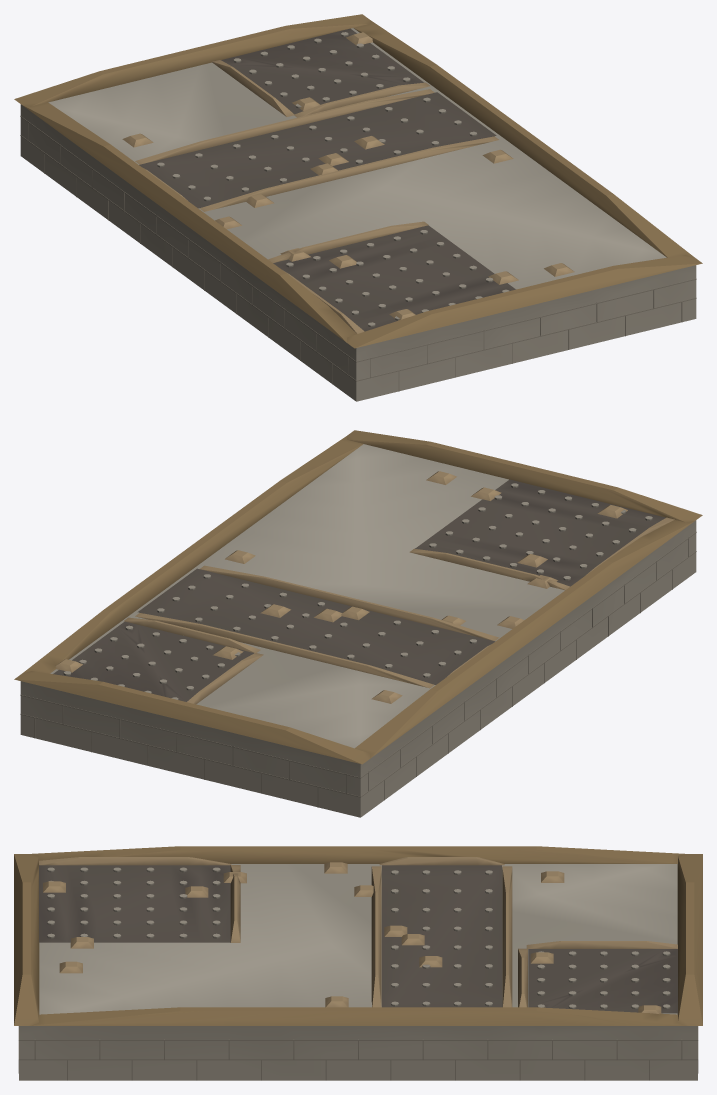
The model's file is treasury-ruin.glb.
The picture shows the model from 3 angles, top to bottom: view 1: azimuth 30°, elevation 25°; view 2: azimuth 150°, elevation 25°; view 3: azimuth 270°, elevation 25°; orthographic projection.
Parts seen in each view (by area): view 1: p0_terrace, p1_walls; view 2: p0_terrace, p1_walls; view 3: p0_terrace, p1_walls.
Part boxes in pixels (x1,y1,x2,y2): p0_terrace: (20, 28, 696, 401); p1_walls: (14, 14, 702, 348); p0_terrace: (20, 444, 696, 817); p1_walls: (14, 430, 702, 764); p0_terrace: (18, 864, 698, 1080); p1_walls: (14, 846, 702, 1025).
Size of the model in its own units: 77.92 by 14.4 by 132.
